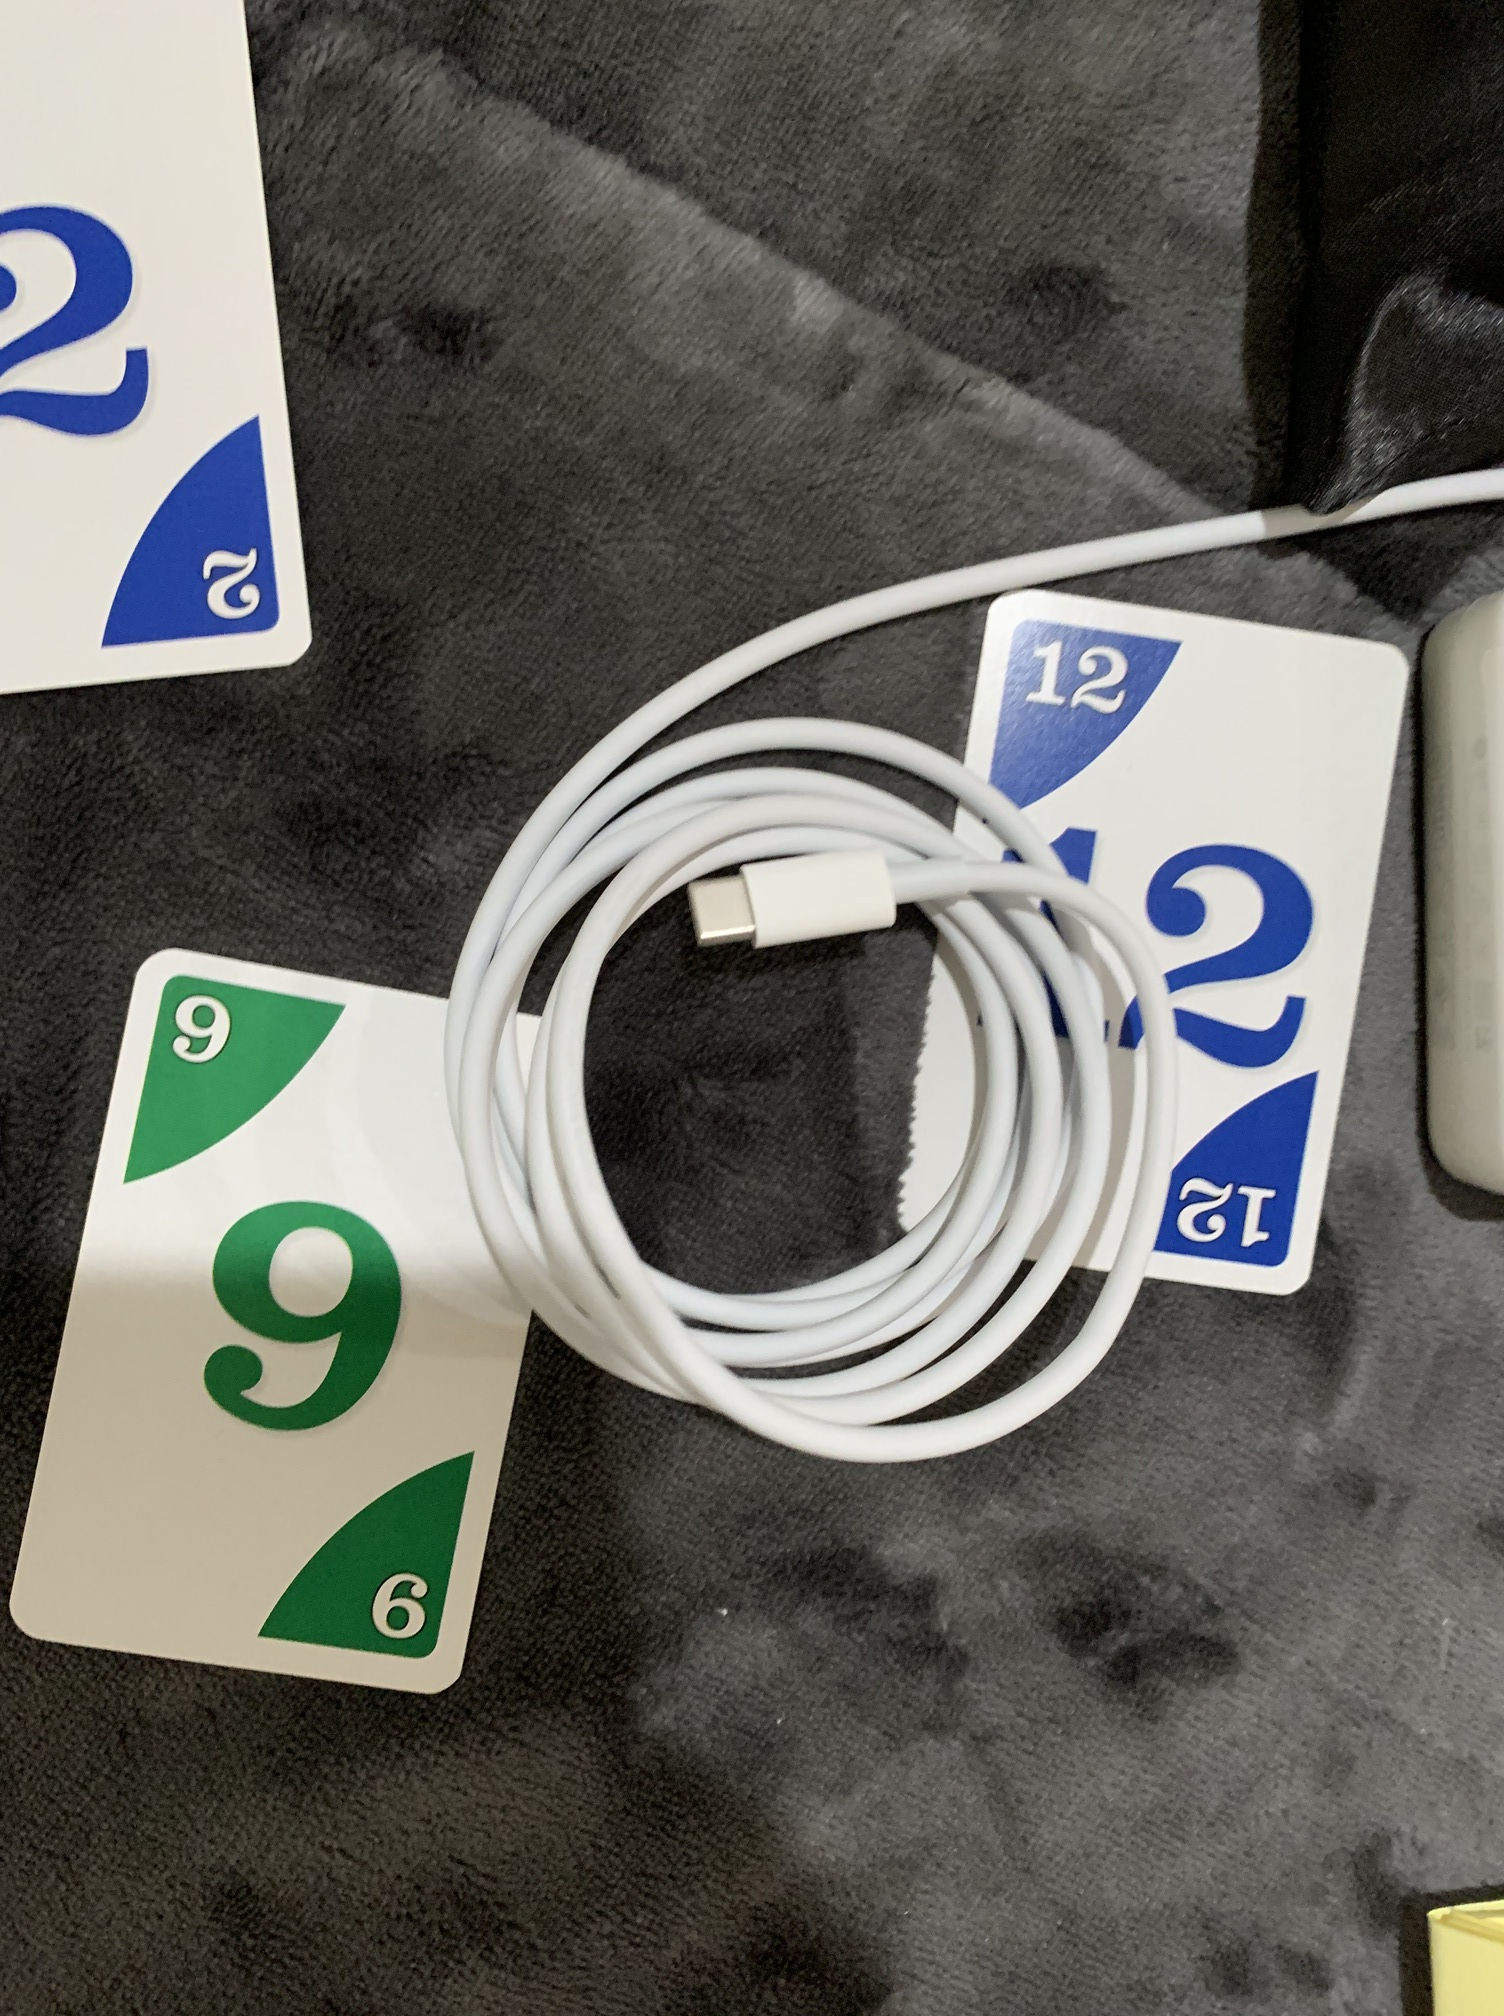nine: (6, 954, 596, 1708)
twelve: (878, 586, 1417, 1316)
